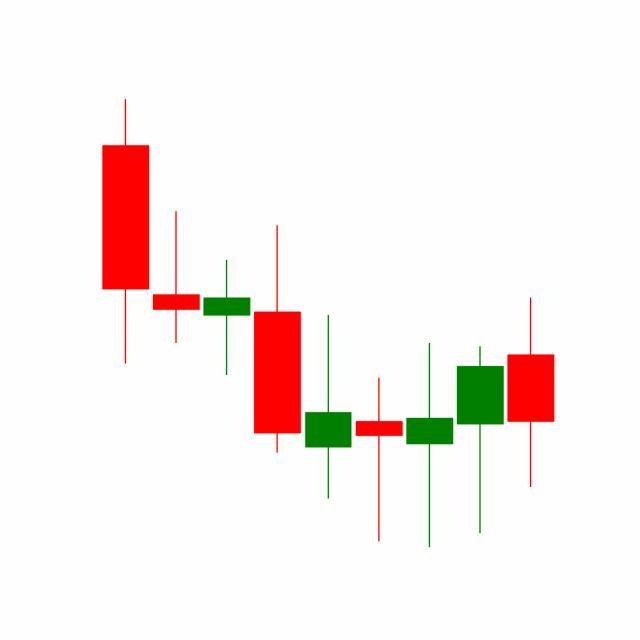Hikkake Pattern: (302, 294, 555, 549)
